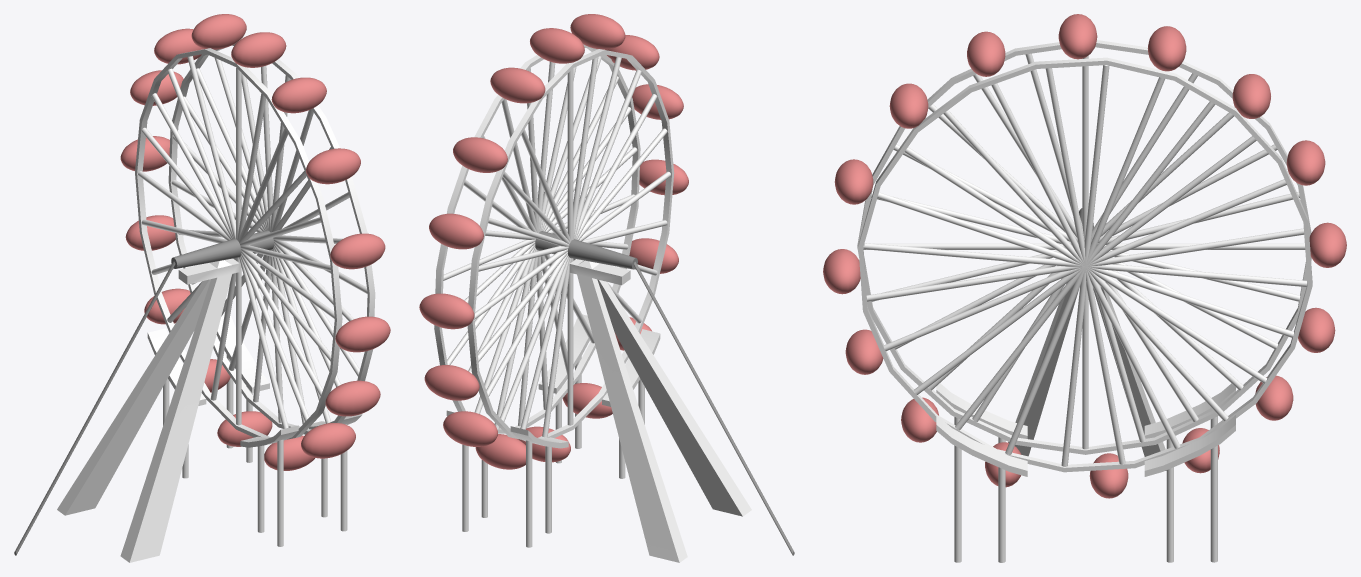
File: london_eye.fbx
The picture shows the model from 3 angles, left to right: view 1: azimuth 30°, elevation 25°; view 2: azimuth 150°, elevation 25°; view 3: azimuth 270°, elevation 25°; orthographic projection. The views are drawn at different scales.
Visible parts, largest first — view 1: Londoneye; view 2: Londoneye; view 3: Londoneye.
Boxes of the visible parts, x1,y1,x2,y2 form: Londoneye: [14, 14, 390, 562]; Londoneye: [419, 14, 794, 562]; Londoneye: [823, 14, 1346, 562].
Bounding box in the file's own units: 228 × 360 × 326.
